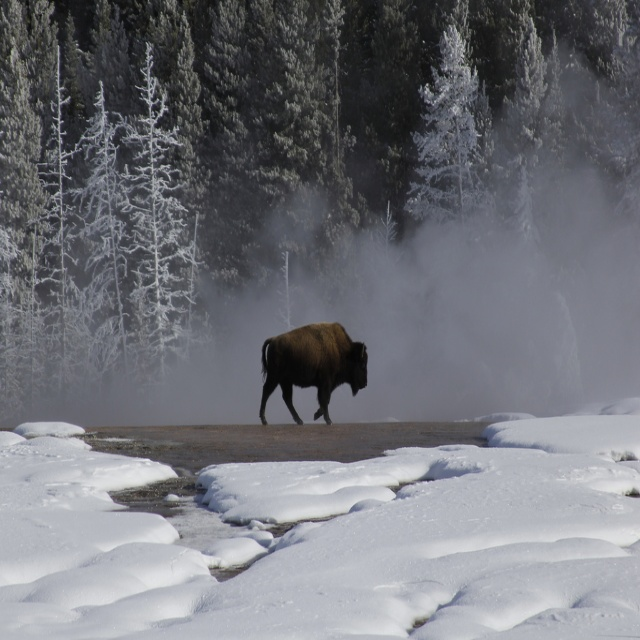Bull: (257, 322, 370, 428)
